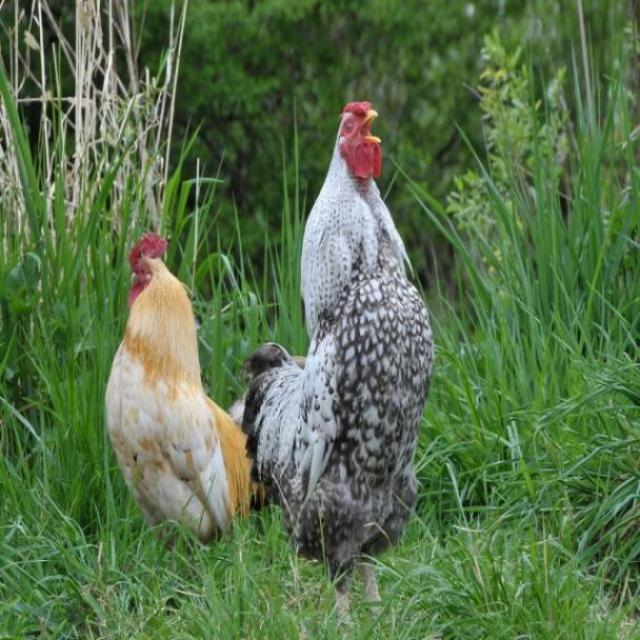Chicken: (233, 98, 440, 639), (115, 230, 264, 562)
